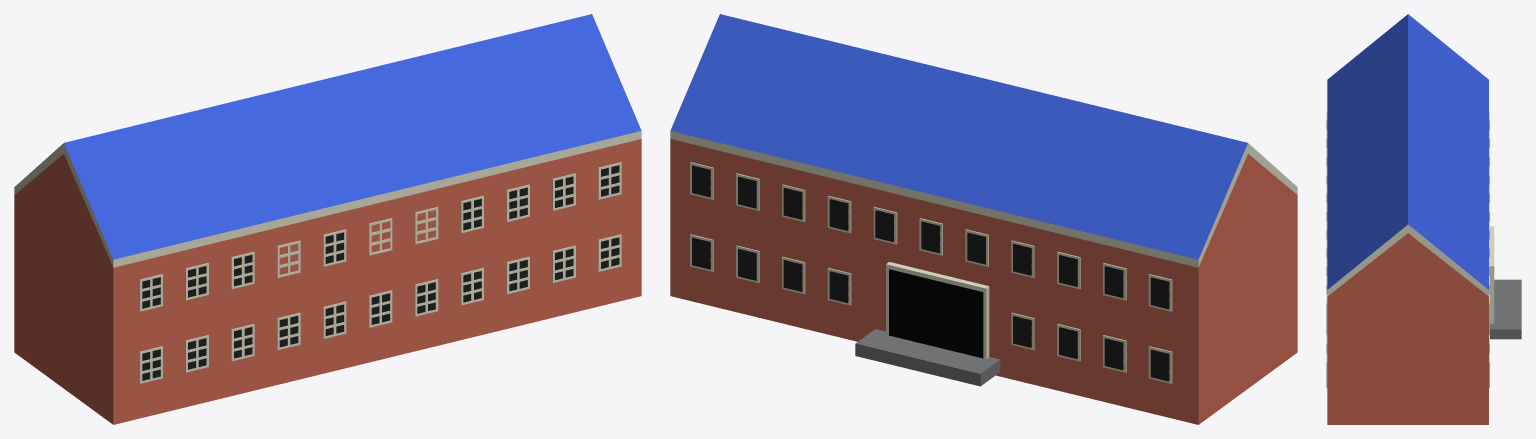
File: Bank.fbx
3 views of the same model, side by side, from view 1: azimuth 30°, elevation 25°; view 2: azimuth 150°, elevation 25°; view 3: azimuth 270°, elevation 25° (orthographic). The views are drawn at different scales.
Visible parts, largest first — view 1: Bank; view 2: Bank; view 3: Bank.
Part boxes in pixels (left/top/right/bottom): Bank: left=14, top=14, right=641, bottom=424; Bank: left=670, top=14, right=1297, bottom=424; Bank: left=1326, top=14, right=1521, bottom=424.
Size of the model in its own units: 350 by 156 by 137.
